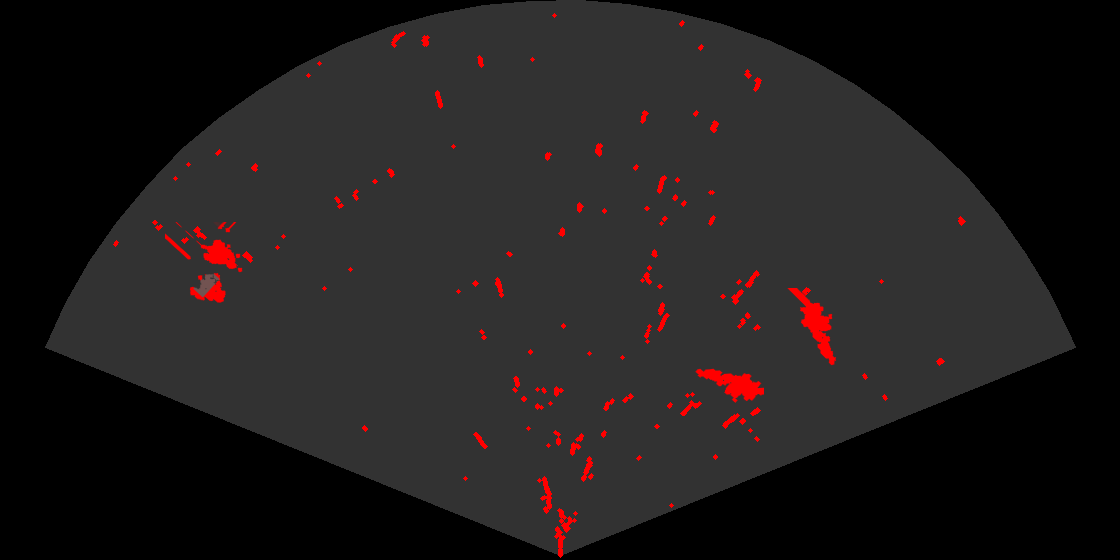cage: (165, 222, 244, 304)
frogman: (786, 288, 838, 367), (694, 367, 764, 404)
